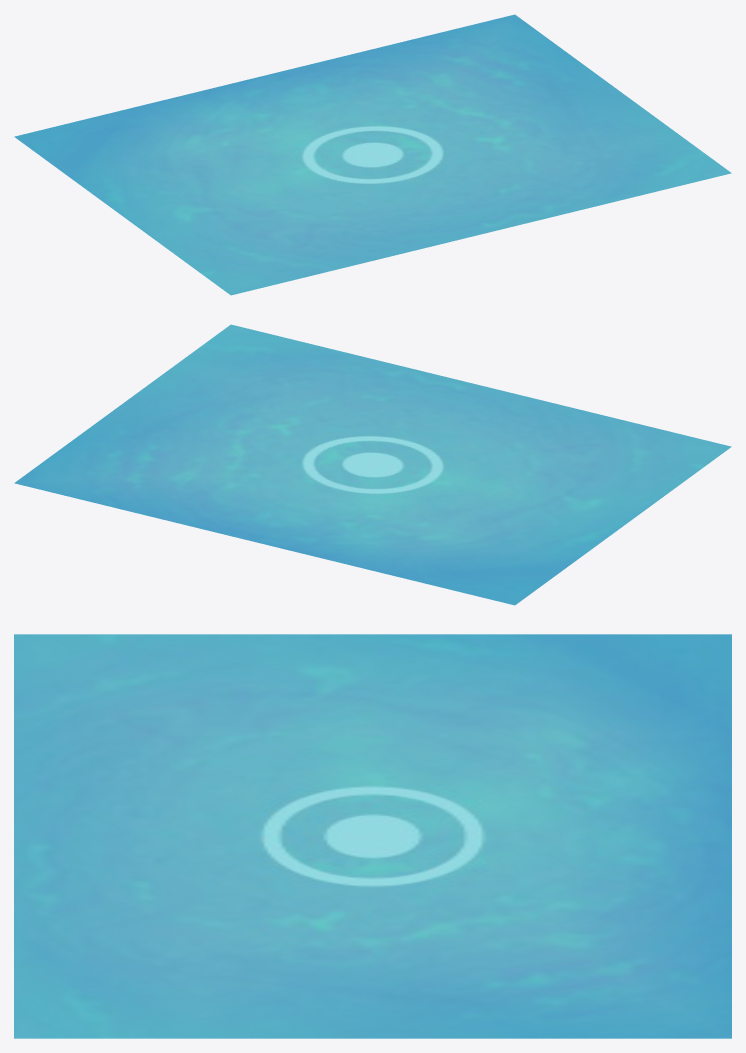
The model's file is ice_rink.glb.
3 views of the same model, one above another, from view 1: azimuth 30°, elevation 25°; view 2: azimuth 150°, elevation 25°; view 3: azimuth 270°, elevation 25° (orthographic). The views are drawn at different scales.
Parts seen in each view (by area): view 1: icerinkmesh; view 2: icerinkmesh; view 3: icerinkmesh.
Boxes of the visible parts, <box> form: icerinkmesh: <box>14,14,731,295</box>; icerinkmesh: <box>14,324,731,605</box>; icerinkmesh: <box>14,634,731,1038</box>.
Bounding box in the file's own units: 40 × 2.15e-10 × 30.
1 material, 1 textured.
